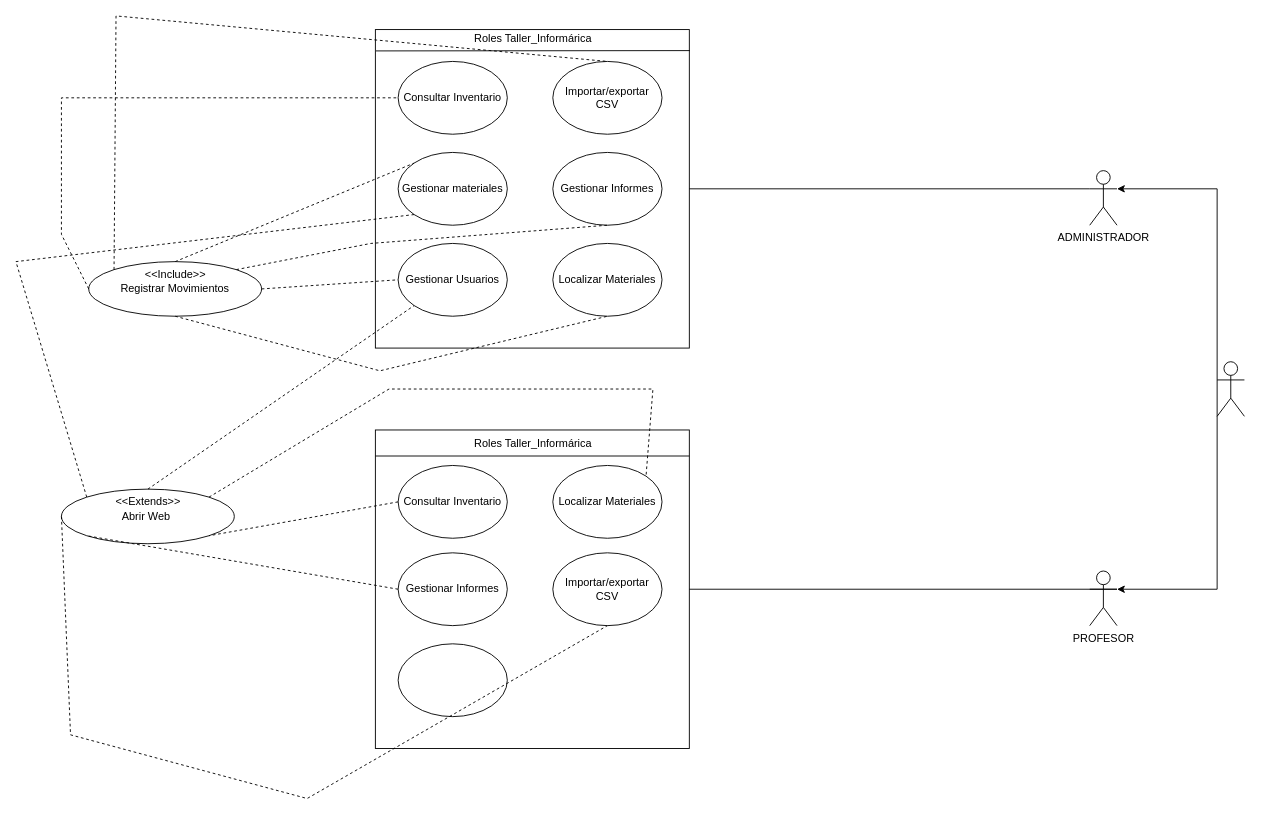
This 1276x815 diagram has some shape labels left out. The centre of each missing label's shape, as x and y in pixels:
"Iniciar sesión" goes at (452,680).
"Usuario" goes at (1230,388).
